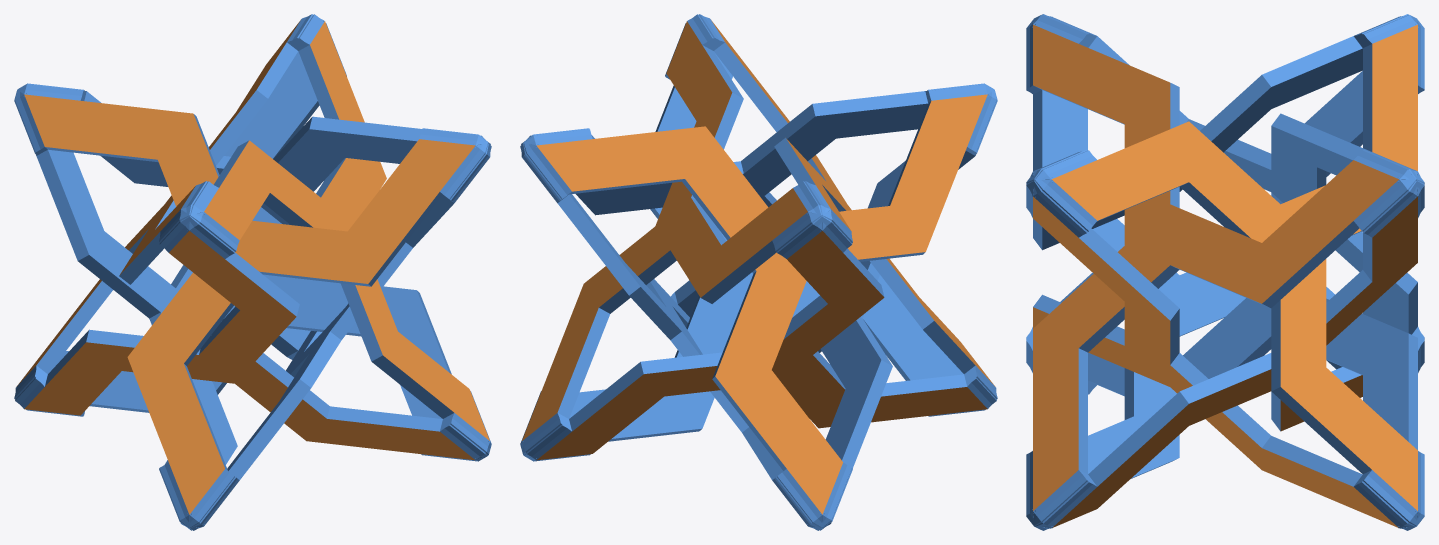
File: StarMerkabaPolyknot2.glb
3 renders of one model, left to right at view 1: azimuth 30°, elevation 25°; view 2: azimuth 150°, elevation 25°; view 3: azimuth 270°, elevation 25°, orthographic. The views are drawn at different scales.
Parts seen in each view (by area): view 1: ESCHER_4.0_STELLATED_OCTAHEDRON_3Augmented_Subdivided_Cuboct; view 2: ESCHER_4.0_STELLATED_OCTAHEDRON_3Augmented_Subdivided_Cuboct; view 3: ESCHER_4.0_STELLATED_OCTAHEDRON_3Augmented_Subdivided_Cuboct.
Boxes of the visible parts, box(x1,y1,x2,y2) form: ESCHER_4.0_STELLATED_OCTAHEDRON_3Augmented_Subdivided_Cuboct: box(14, 14, 491, 530); ESCHER_4.0_STELLATED_OCTAHEDRON_3Augmented_Subdivided_Cuboct: box(520, 14, 997, 530); ESCHER_4.0_STELLATED_OCTAHEDRON_3Augmented_Subdivided_Cuboct: box(1026, 14, 1424, 530).
Size of the model in its own units: 100 by 100 by 100.
